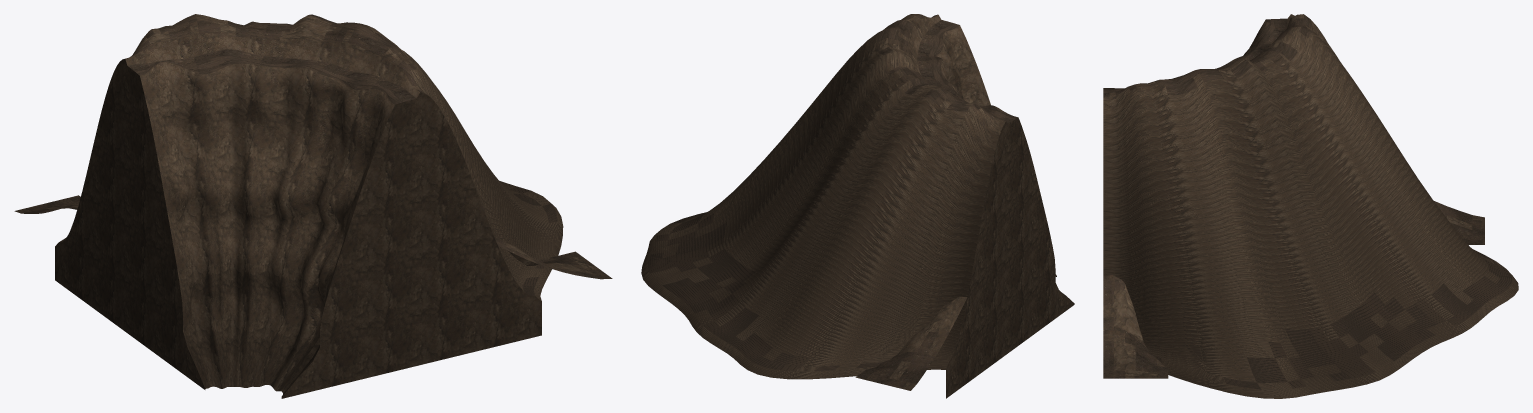
File: seacliff_inner_h8_v5_dead.glb
The picture shows the model from 3 angles, left to right: view 1: azimuth 30°, elevation 25°; view 2: azimuth 150°, elevation 25°; view 3: azimuth 270°, elevation 25°; orthographic projection. The views are drawn at different scales.
Visible parts, largest first — view 1: seacliff_inner_h8; view 2: seacliff_inner_h8; view 3: seacliff_inner_h8.
Part boxes in pixels (x1,y1,x2,y2): seacliff_inner_h8: (14, 14, 612, 398); seacliff_inner_h8: (641, 14, 1074, 398); seacliff_inner_h8: (1103, 14, 1518, 398).
Size of the model in its own units: 15.44 by 10.6 by 15.33.
Materials: 2 (2 with a texture image).
